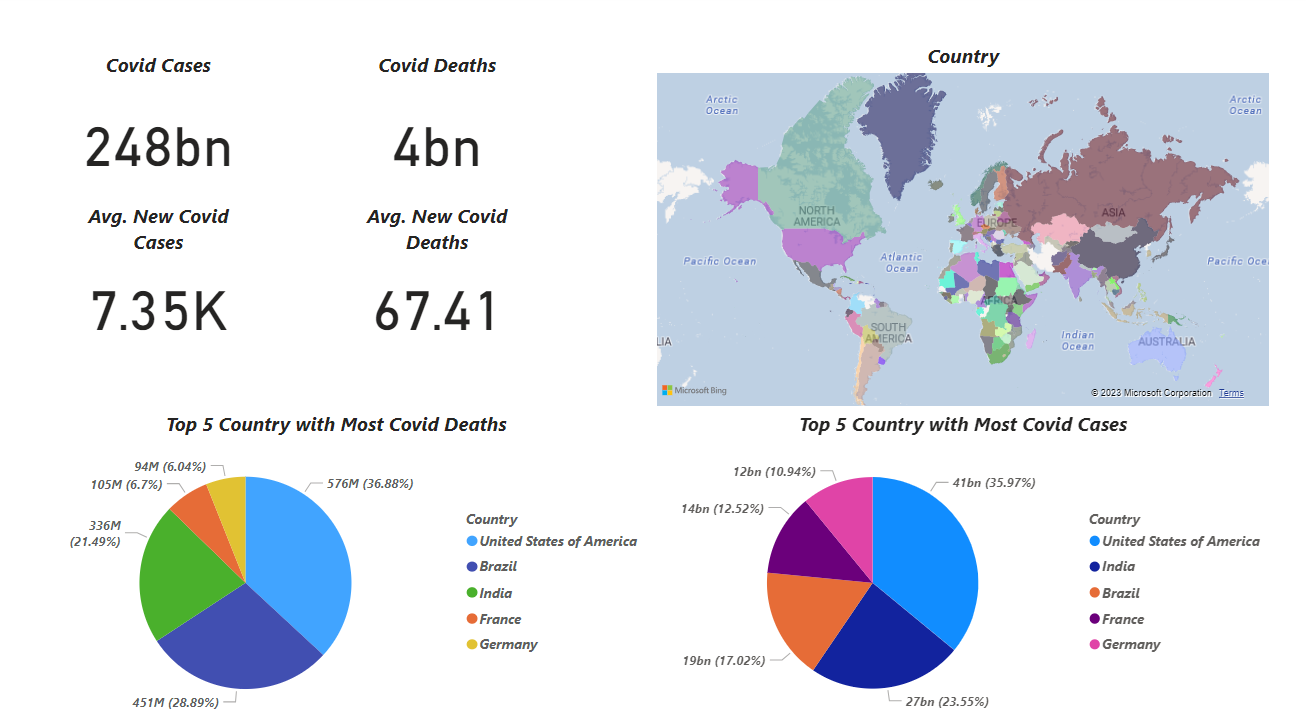

Layout of this report page (visuals, bound fields, positions):
{"tool":"powerbi","page":{"name":"Page 1","canvas":[1280,720],"ordinal":0},"visuals":[{"type":"filledMap","title":"Country ","fields":{"Category":["WHO-COVID-19-global-data.Country"],"Series":["WHO-COVID-19-global-data.Cumulative_cases"]},"box":[639.5,48,609.3,359.5],"z":0},{"type":"card","title":"Covid  Cases","fields":{"Values":["Sum(WHO-COVID-19-global-data.Cumulative_cases)"]},"box":[59,56.3,196.2,148.2],"z":5},{"type":"card","title":"Covid Deaths","fields":{"Values":["Sum(WHO-COVID-19-global-data.Cumulative_deaths)"]},"box":[330.7,56.3,196.2,148.2],"z":6},{"type":"pieChart","title":"Top 5 Country with Most Covid Cases","fields":{"Category":["WHO-COVID-19-global-data.Country"],"Y":["Sum(WHO-COVID-19-global-data.Cumulative_cases)"]},"box":[639.5,407.5,609.3,312.9],"z":8},{"type":"pieChart","title":"Top 5 Country with Most Covid Deaths","fields":{"Category":["WHO-COVID-19-global-data.Country"],"Y":["Sum(WHO-COVID-19-global-data.Cumulative_deaths)"]},"box":[22,407.5,617.5,312.9],"z":9},{"type":"card","title":"Avg. New Covid  Cases","fields":{"Values":["Avg(WHO-COVID-19-global-data.New_cases)"]},"box":[59,204.5,196.2,148.2],"z":10},{"type":"card","title":"Avg. New Covid Deaths","fields":{"Values":["Avg(WHO-COVID-19-global-data.New_deaths)"]},"box":[330.7,204.5,196.2,148.2],"z":11}]}

Visuals, with their boxes in screenshot pixels (x1, y1, x2, y2), scaled from the page's 1280x720 canvas onto the 1306x728 screenshot:
"Country " filledMap: bbox(652, 49, 1274, 412)
"Covid  Cases" card: bbox(60, 57, 260, 207)
"Covid Deaths" card: bbox(337, 57, 538, 207)
"Top 5 Country with Most Covid Cases" pieChart: bbox(652, 412, 1274, 727)
"Top 5 Country with Most Covid Deaths" pieChart: bbox(22, 412, 652, 727)
"Avg. New Covid  Cases" card: bbox(60, 207, 260, 357)
"Avg. New Covid Deaths" card: bbox(337, 207, 538, 357)
